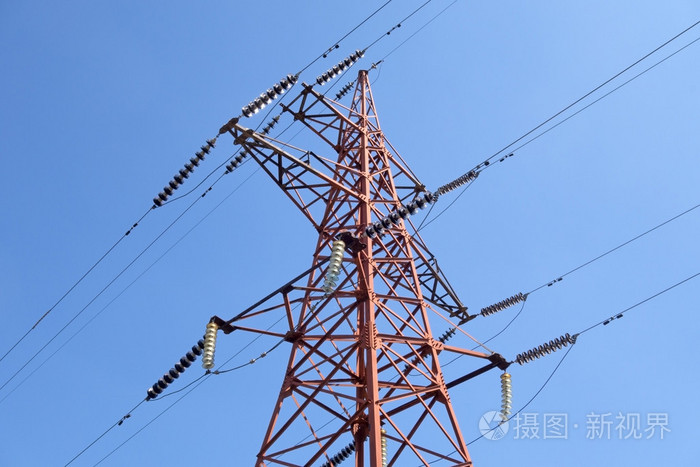insulator: (151, 140, 218, 206), (142, 341, 203, 401), (365, 192, 431, 240), (224, 115, 279, 172), (241, 73, 296, 115), (315, 48, 360, 84), (516, 336, 572, 361), (323, 237, 344, 296), (480, 293, 527, 315), (437, 171, 479, 194), (199, 322, 217, 369), (498, 373, 514, 422), (323, 441, 353, 467)
